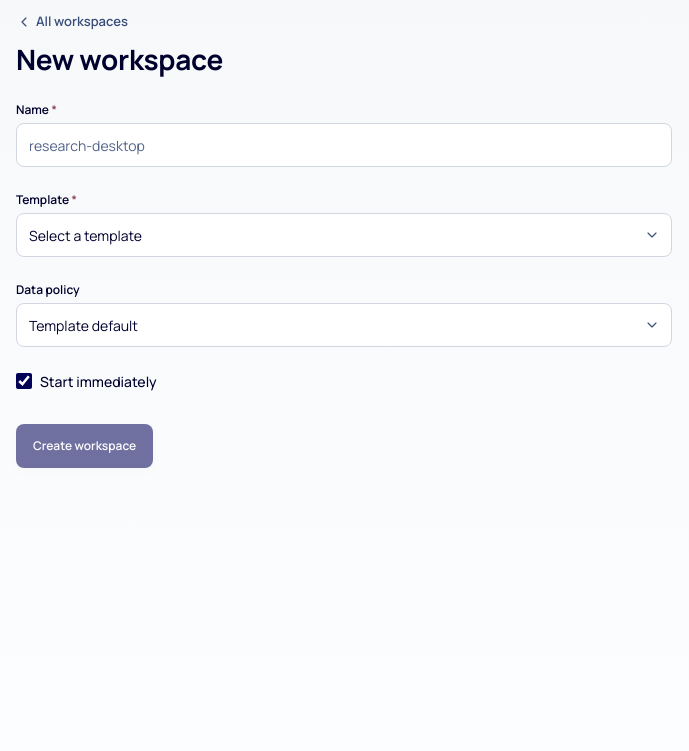
Test: CreateWorkspacePage › create: IMAGE_STALE refusal guidance (pinned)
In the field labelled "Name *": (344, 145) [16,123,672,167], type "my-box"
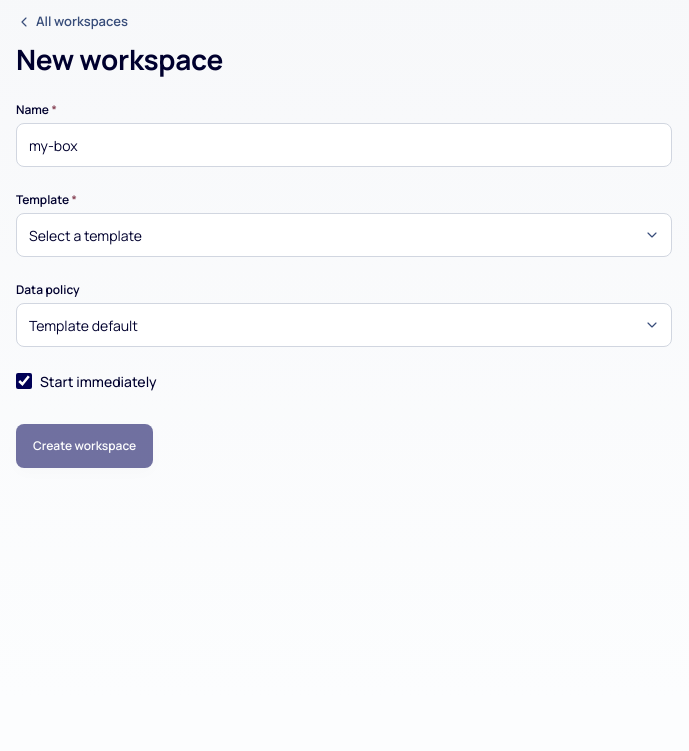
Select "linux-chromium-browser (rev 3, Linux container)" in the dropdown labelled "Template *": (344, 235) [16,213,672,257]
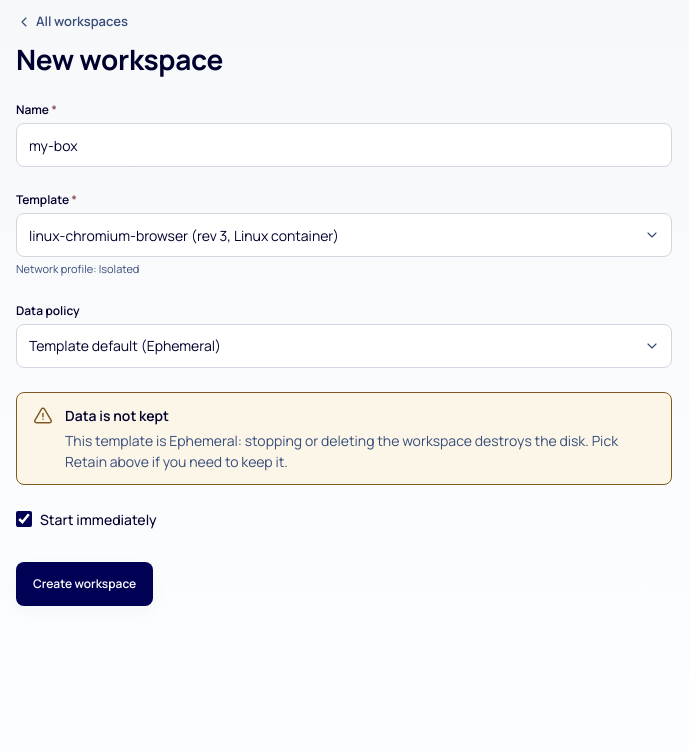
Click the button "Create workspace": (85, 584) [16,562,153,606]
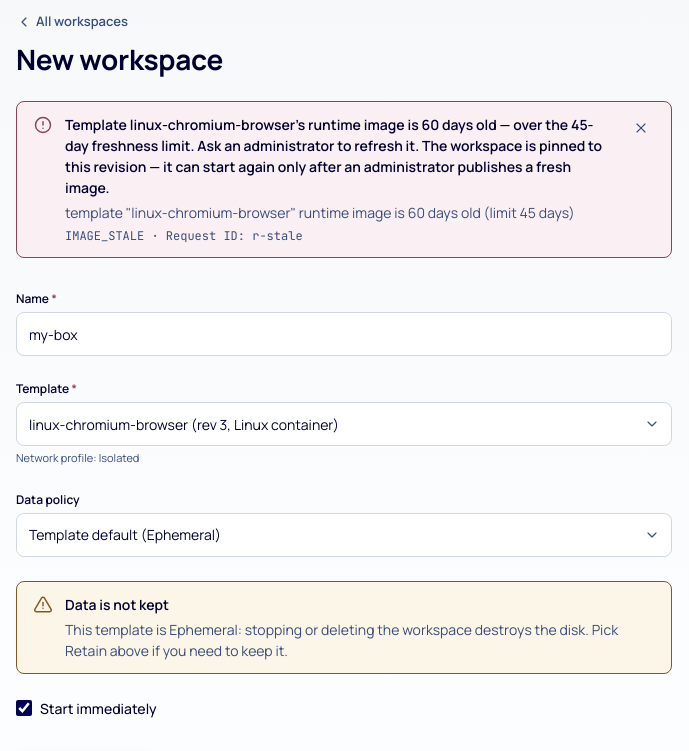
Expected: the 1st message shows "Template linux-chromium-browser's runtime image is 60 days old — over the 45-day freshness limit", [65,115,602,197]
Expected: the 1st message shows "only after an administrator publishes a fresh image", [65,115,602,197]
